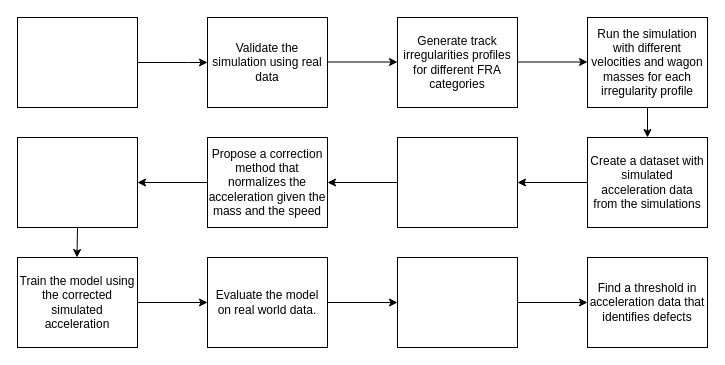
This 725x365 diagram has some shape labels left out. Each missing label, with the box of its shape:
Create a simulation in SIMPACK: (16, 16, 138, 108)
Define the deep learning model architecture: (16, 136, 138, 228)
Label the reconstructed irregularities using the standard defined limits: (396, 256, 518, 348)
Study the effect of the velocity and mass on the acceleration measurements: (396, 136, 518, 228)
